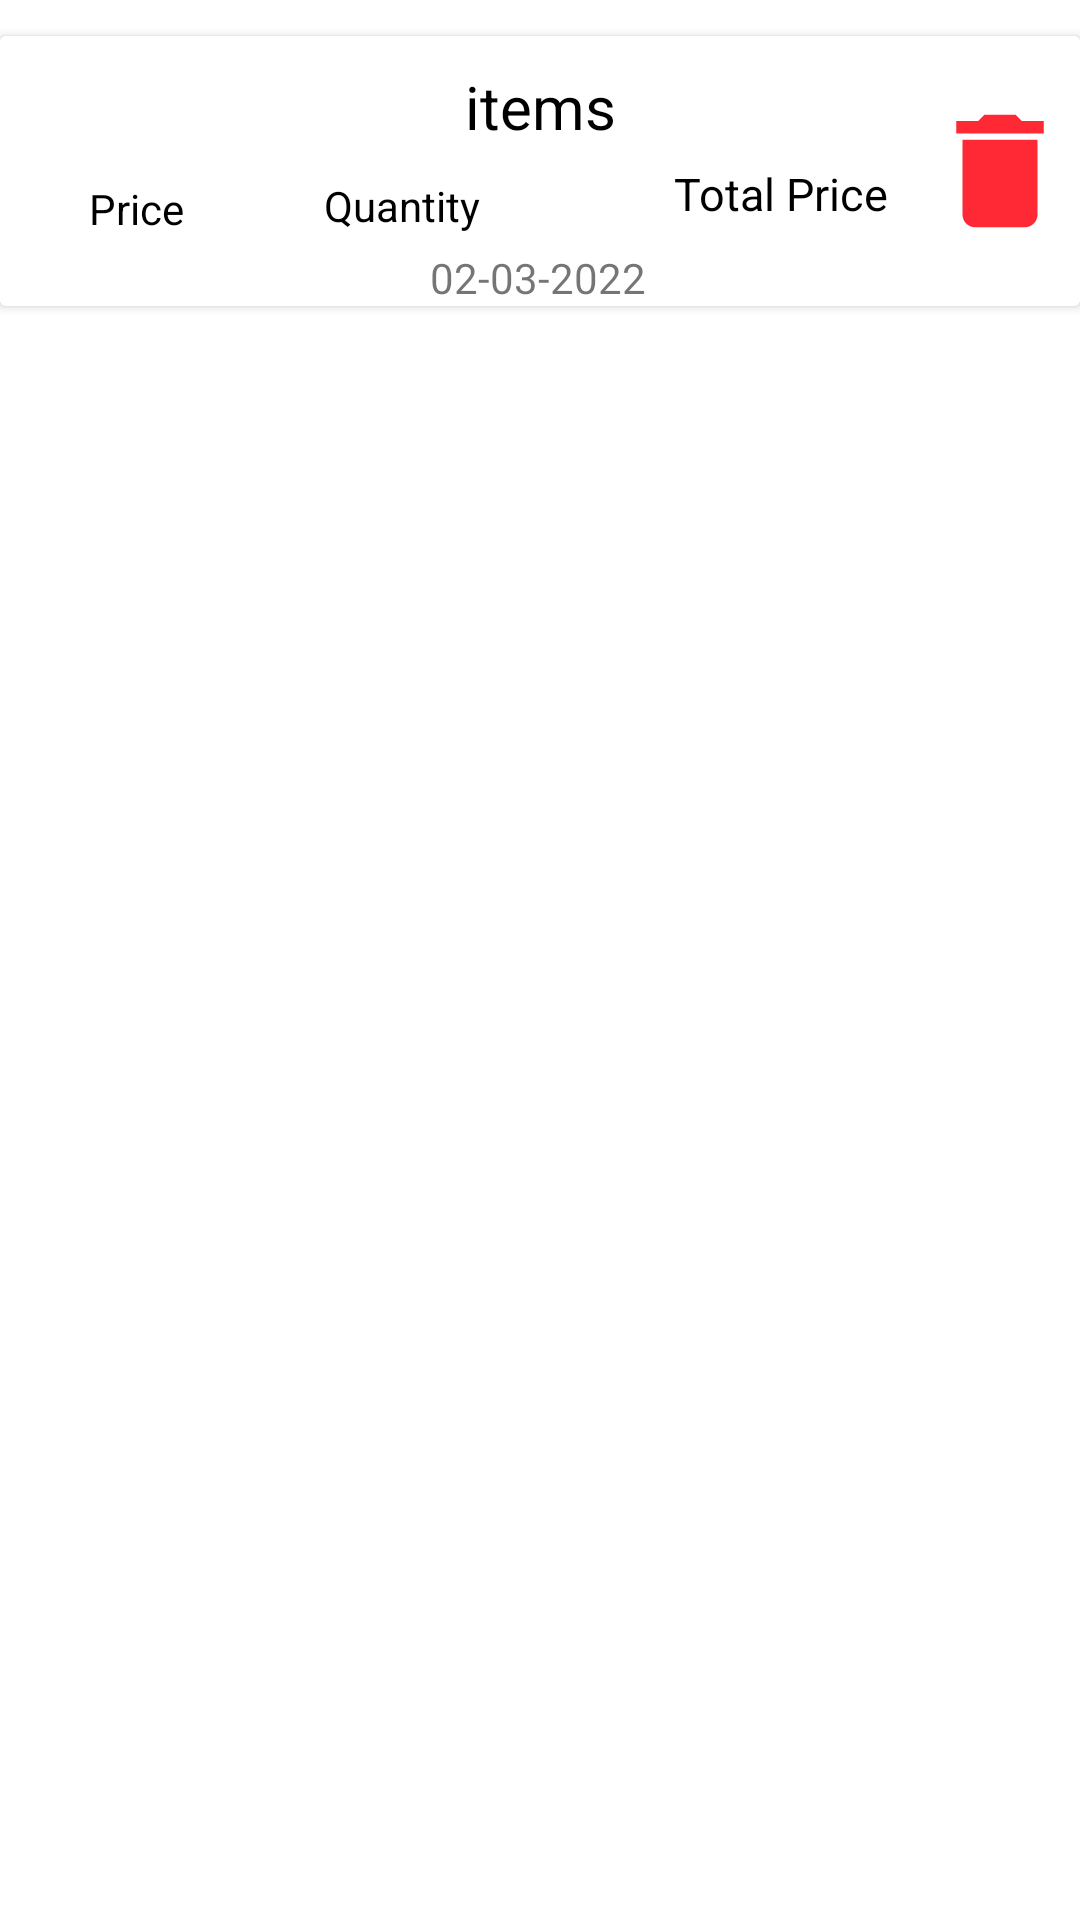

Named icons in this screenshot (1080w x 1920h) and their centers, (x,y):
delete: (1000,171)
